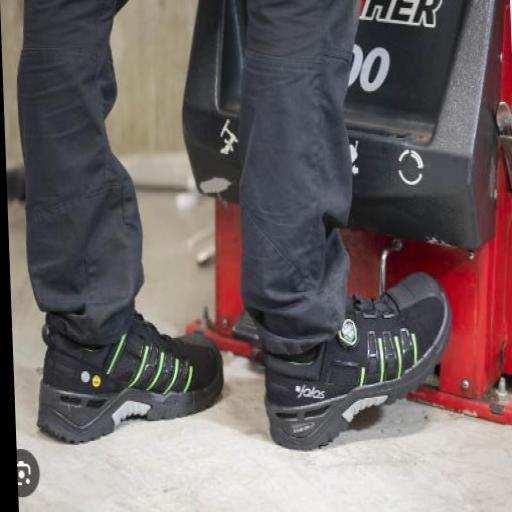safety_boots: (264, 270, 475, 449), (20, 324, 244, 446)
